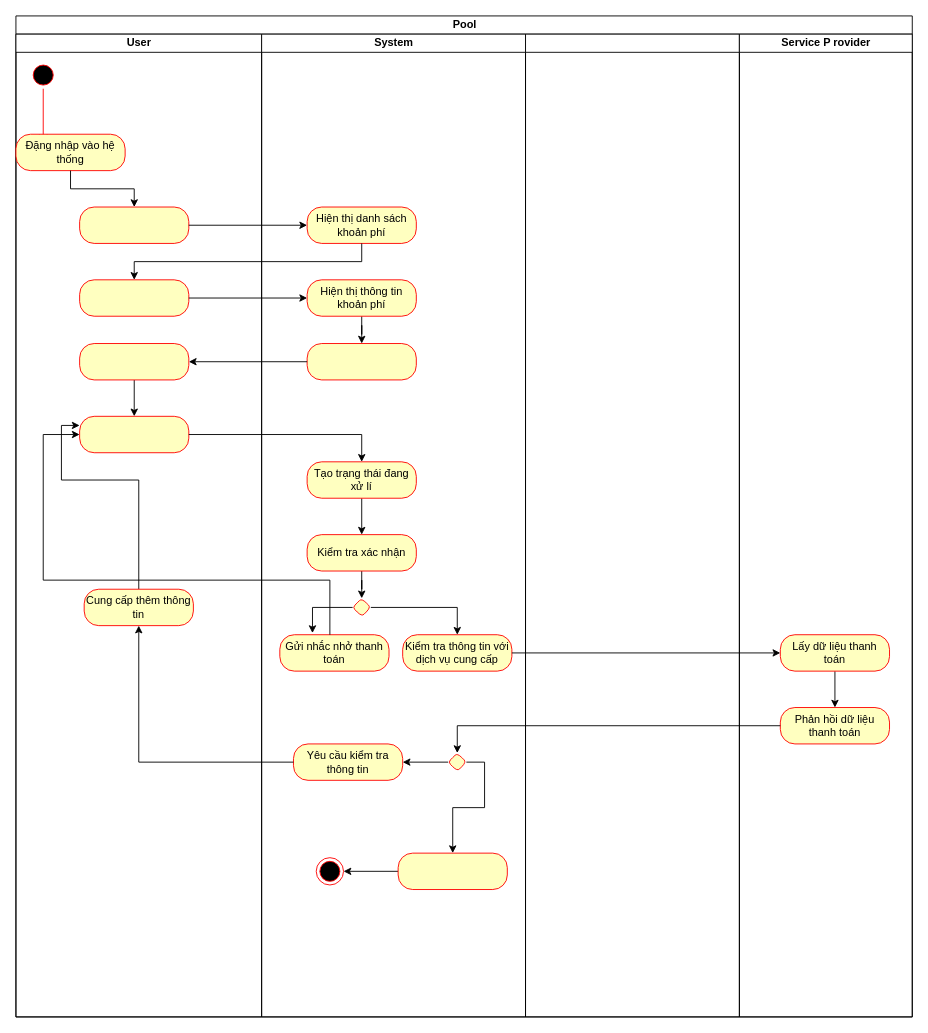
The diagram is 928 pixels wide and 1033 high, and some of its shapes have lost their labels. The centre of each missing label's shape, as x and y in pixels:
Chọn chức năng pay fee: the point at 134,224
Chọn khoản phí cần thanh toán: the point at 134,297
Chọn phương thức thanh toán: the point at 134,361
Hiện thị các phương thức thanh toán: the point at 361,361
Manager: the point at 632,525
Trạng thái thanh toán thành công: the point at 452,871
Xác nhận thanh toán: the point at 134,434
